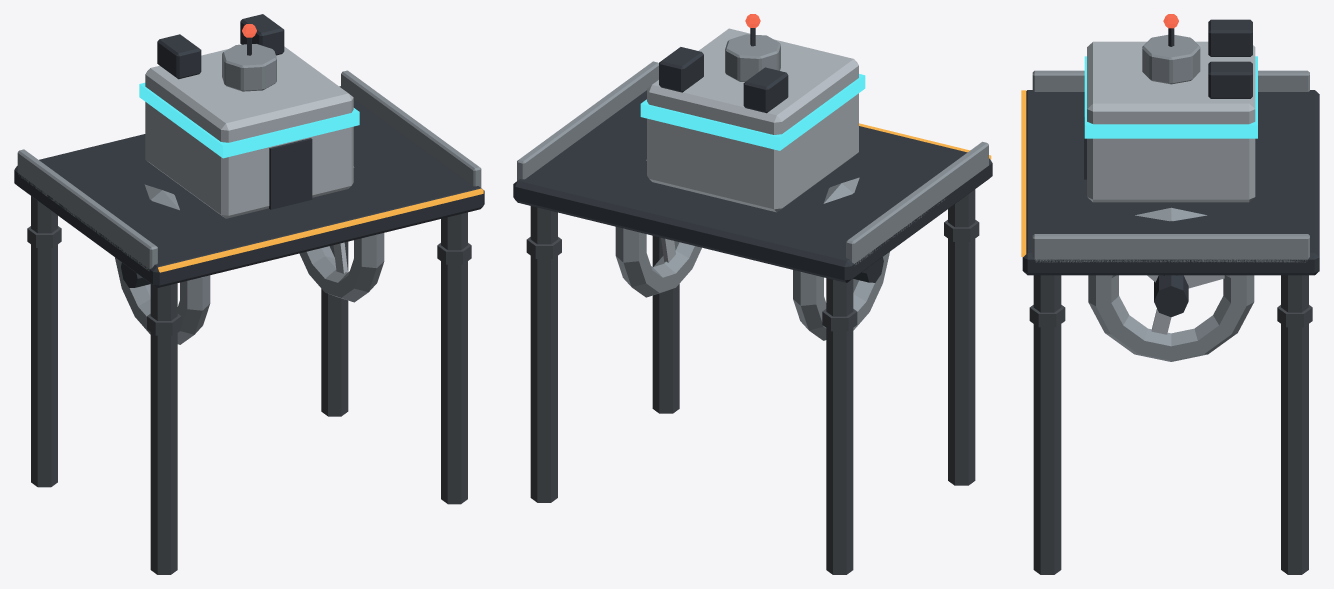
The model's file is exo-tidal.glb.
3 views of the same model, side by side, from view 1: azimuth 30°, elevation 25°; view 2: azimuth 150°, elevation 25°; view 3: azimuth 270°, elevation 25° (orthographic). The views are drawn at different scales.
Visible parts, largest first — view 1: body; view 2: body; view 3: body.
Boxes of the visible parts, left/top/right/bottom form: body: left=14, top=14, right=484, bottom=574; body: left=513, top=14, right=992, bottom=574; body: left=1021, top=14, right=1319, bottom=574.
Bounding box in the file's own units: 8 × 10.76 × 6.03.
